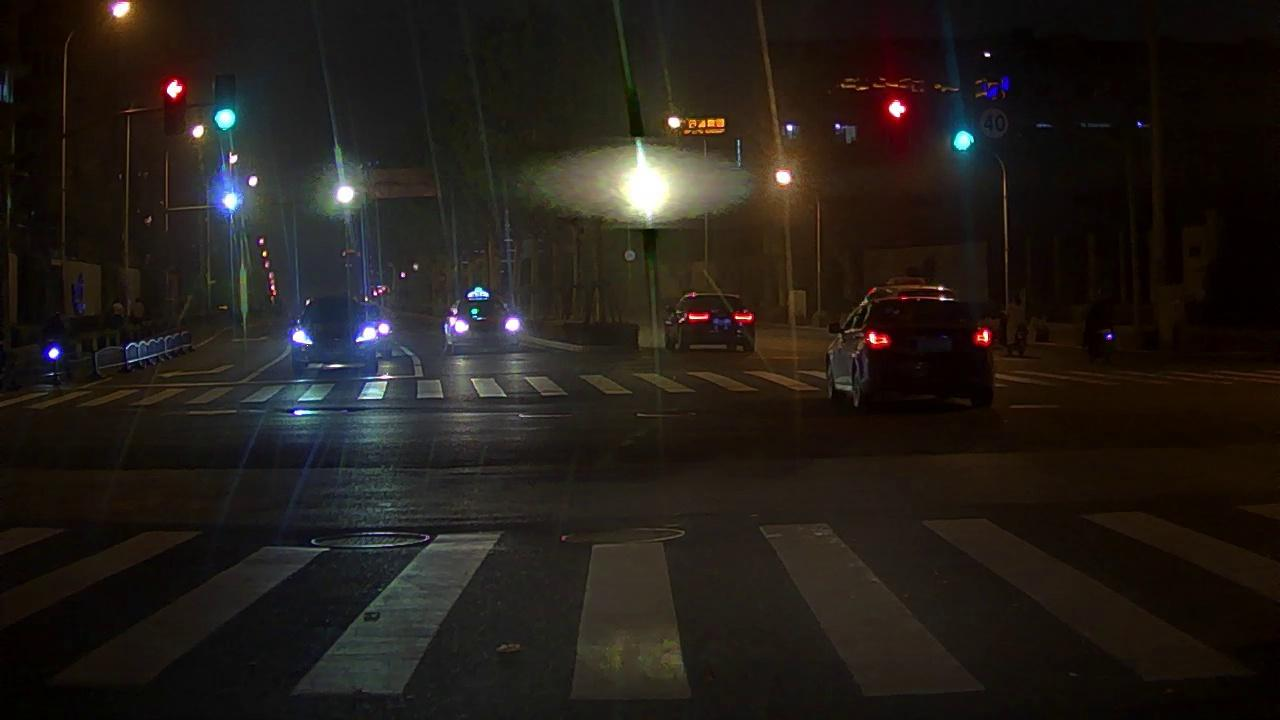traffic_light: (163, 74, 184, 133), (216, 75, 237, 131), (955, 132, 975, 153), (888, 100, 906, 119)
